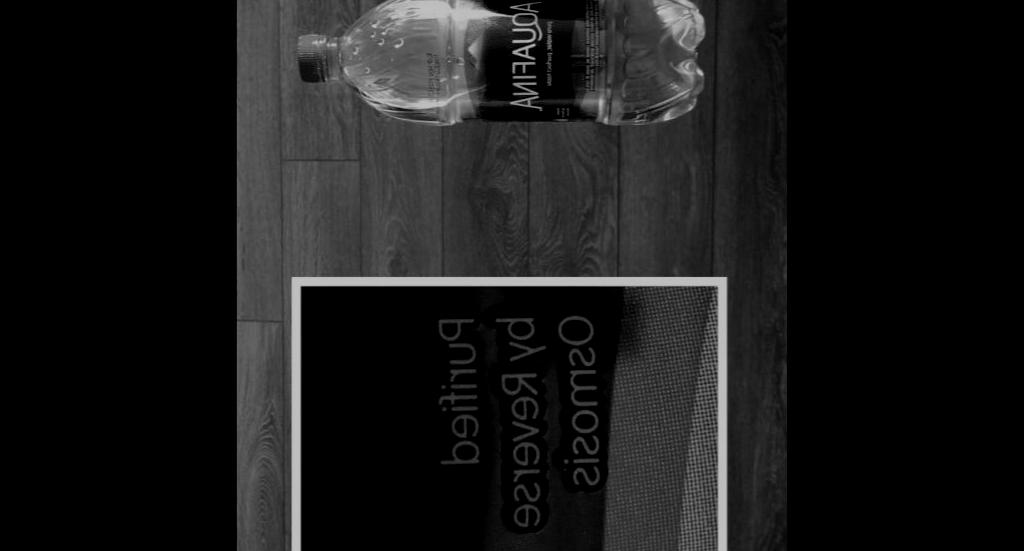bottle: (294, 0, 707, 125)
